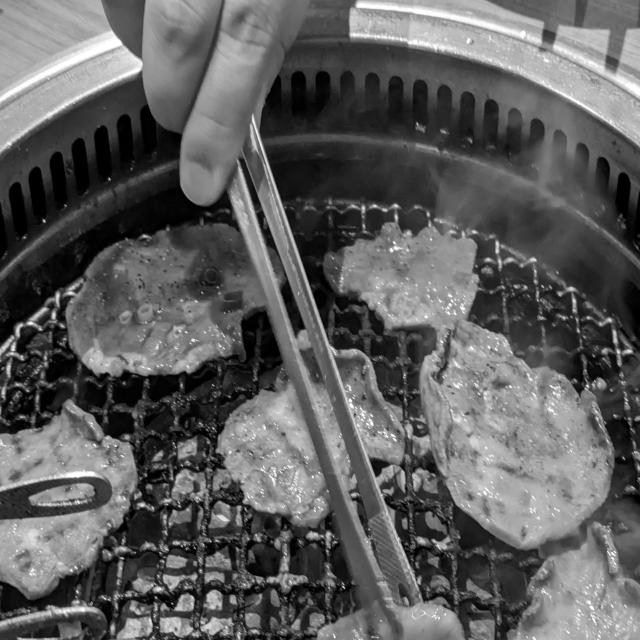NG undercooked beef,: (47, 202, 309, 398)
OK cooked beef,: (198, 322, 418, 542), (1, 391, 156, 618)
OK undercooked beef,: (401, 312, 624, 564), (310, 202, 499, 340)
